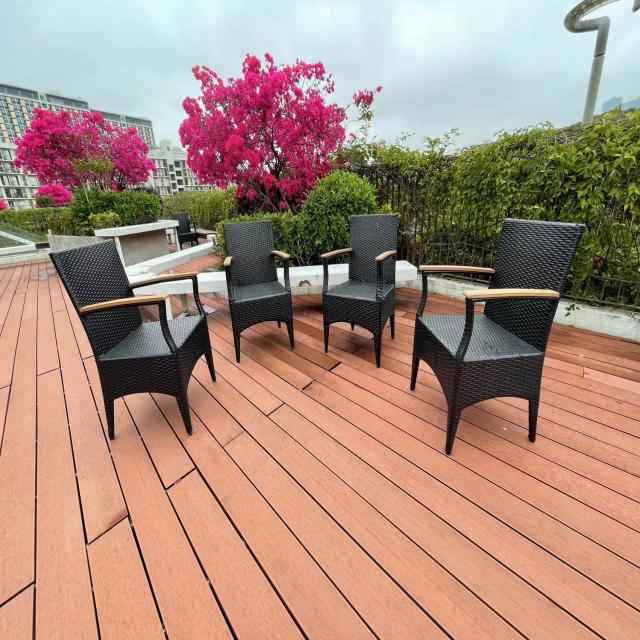chair: (409, 202, 590, 457), (48, 232, 216, 438), (319, 206, 402, 370), (216, 217, 300, 358)
